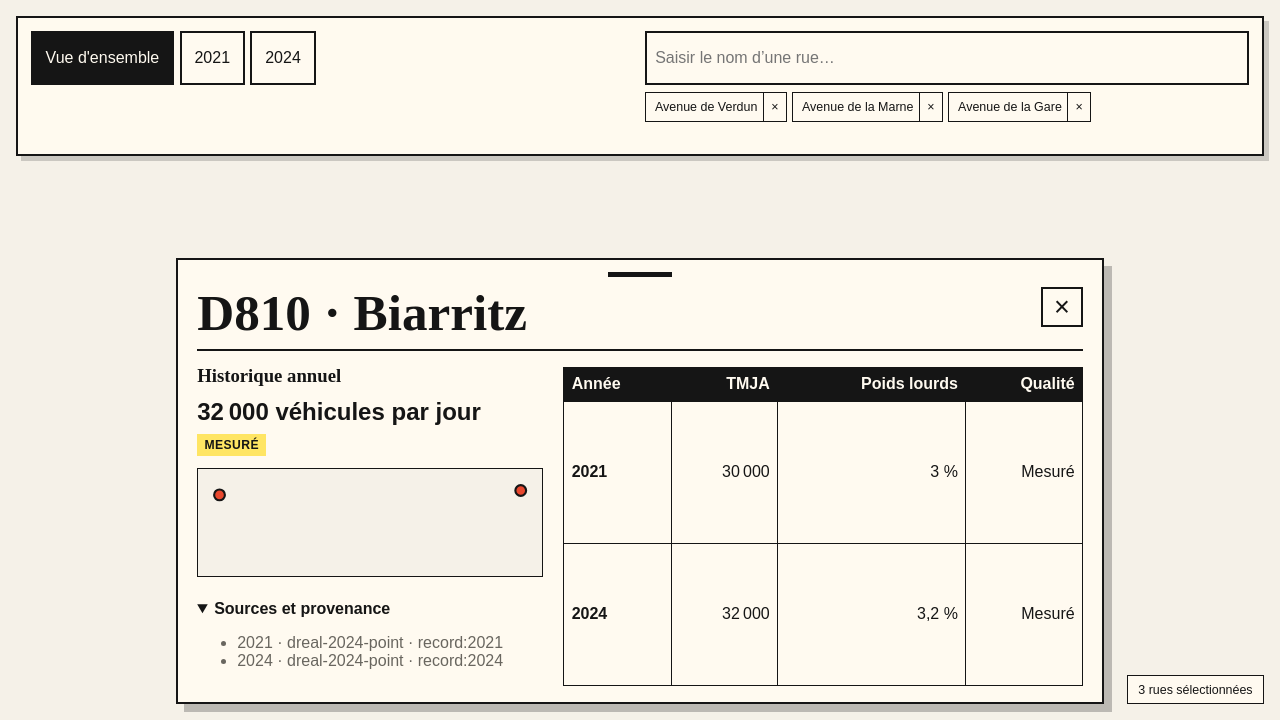
Test: TrafficExplorer › opens station detail without clearing street comparison state
This screenshot has width=1280, height=720.
Expected: the heading "D810 · Biarritz" is shown, x1=197 y1=287 x2=527 y2=338
Expected: the heading "Comparer les rues" is not shown
Click the button named "Fermer les détails".
click(1062, 307)  # box x1=1041 y1=287 x2=1083 y2=327
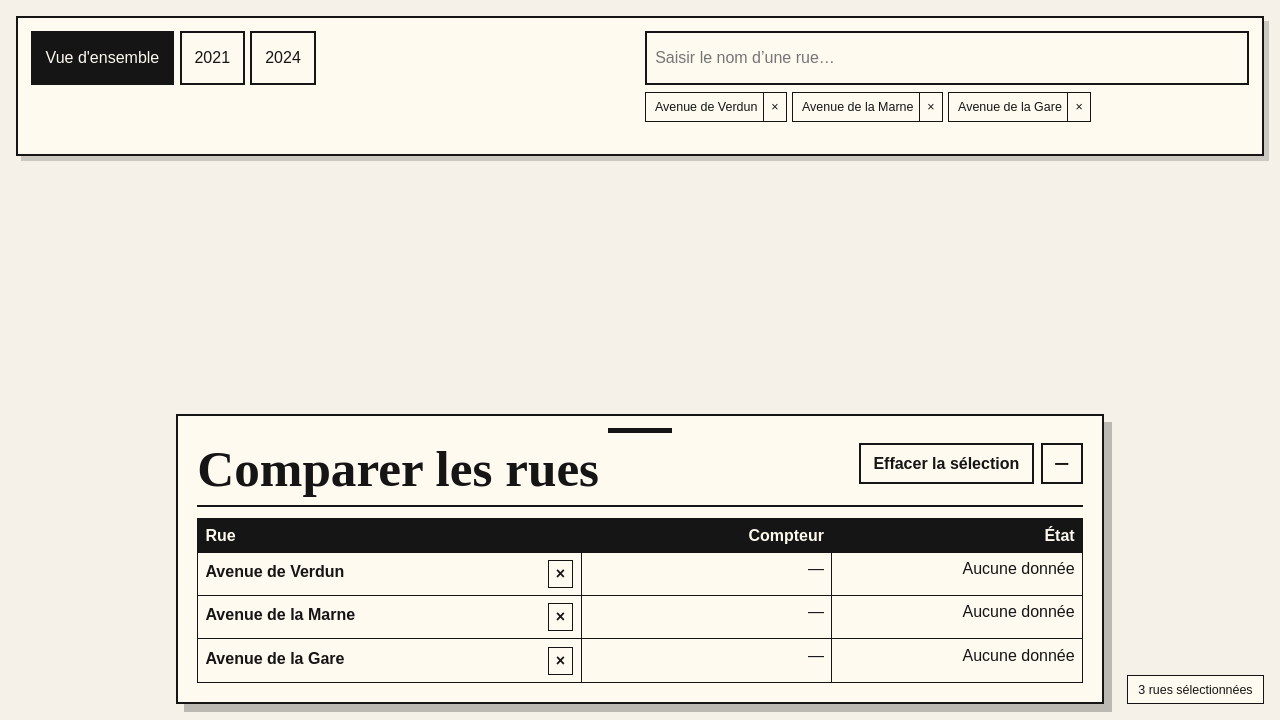
Expected: the heading "Comparer les rues" is shown, x1=197 y1=443 x2=599 y2=494
